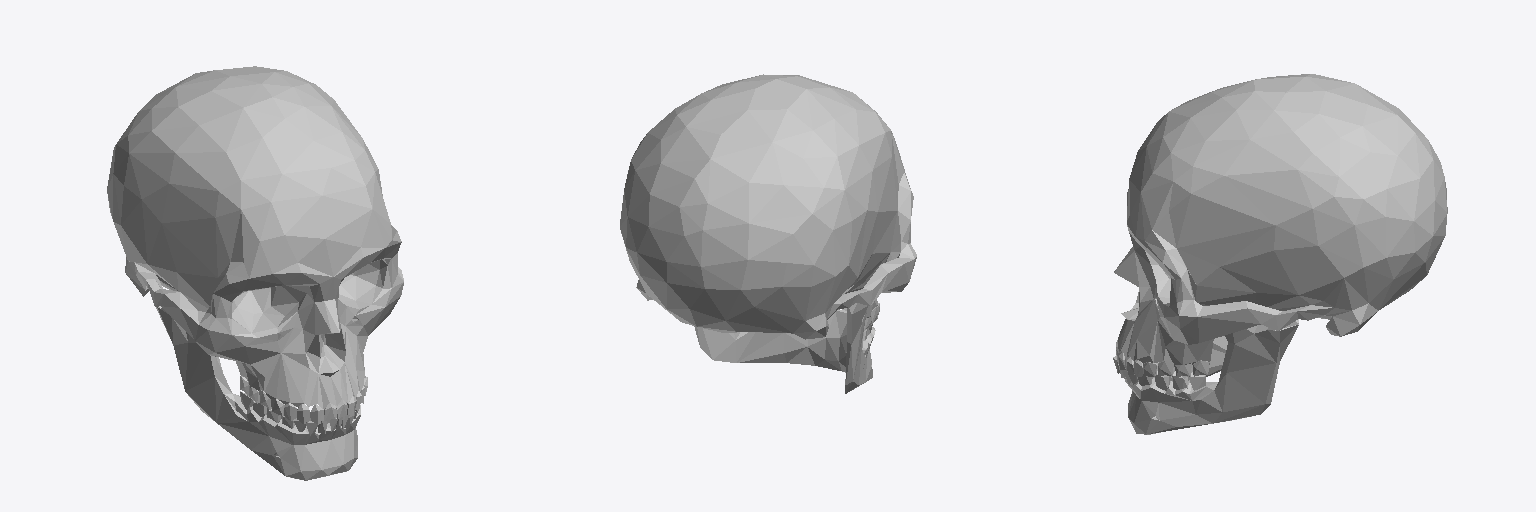
The model's file is skull.obj.
3 views of the same model, side by side, from view 1: azimuth 30°, elevation 25°; view 2: azimuth 150°, elevation 25°; view 3: azimuth 270°, elevation 25° (orthographic).
Visible parts, largest first — view 1: body; view 2: body; view 3: body.
Part boxes in pixels (x1,y1,x2,y2): body: (107, 66, 403, 480); body: (620, 74, 916, 393); body: (1113, 74, 1447, 434).
Bounding box in the file's own units: 0.5804 × 0.8598 × 0.7778.